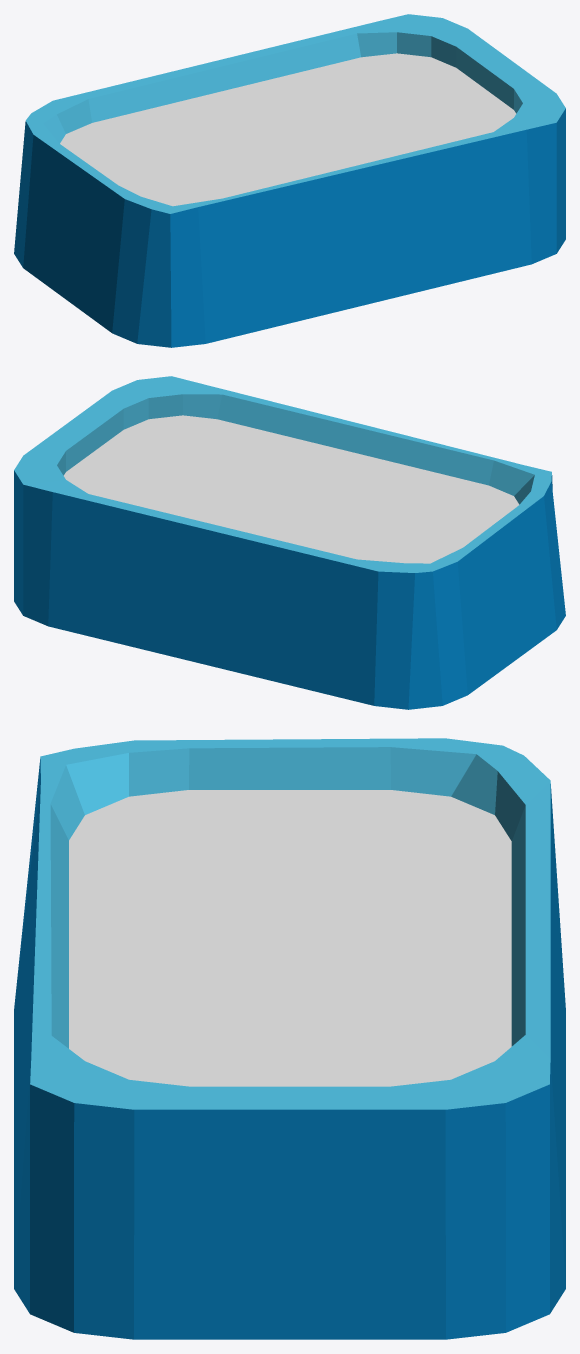
File: ringlight.fbx
The picture shows the model from 3 angles, top to bottom: view 1: azimuth 30°, elevation 25°; view 2: azimuth 150°, elevation 25°; view 3: azimuth 270°, elevation 25°; orthographic projection. The views are drawn at different scales.
Parts seen in each view (by area): view 1: Cube.001; view 2: Cube.001; view 3: Cube.001.
Boxes of the visible parts, x1,y1,x2,y2 form: Cube.001: [14, 14, 565, 347]; Cube.001: [14, 376, 565, 709]; Cube.001: [14, 738, 565, 1339].
Bounding box in the file's own units: 709 × 200 × 435.
